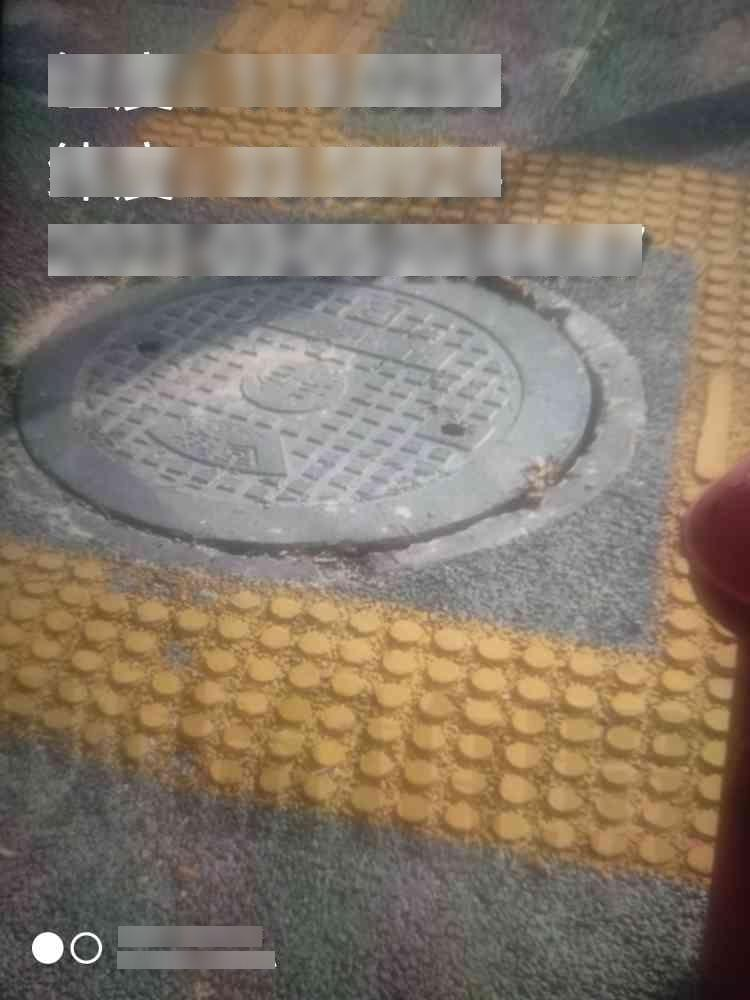wellcover: (0, 217, 676, 635)
